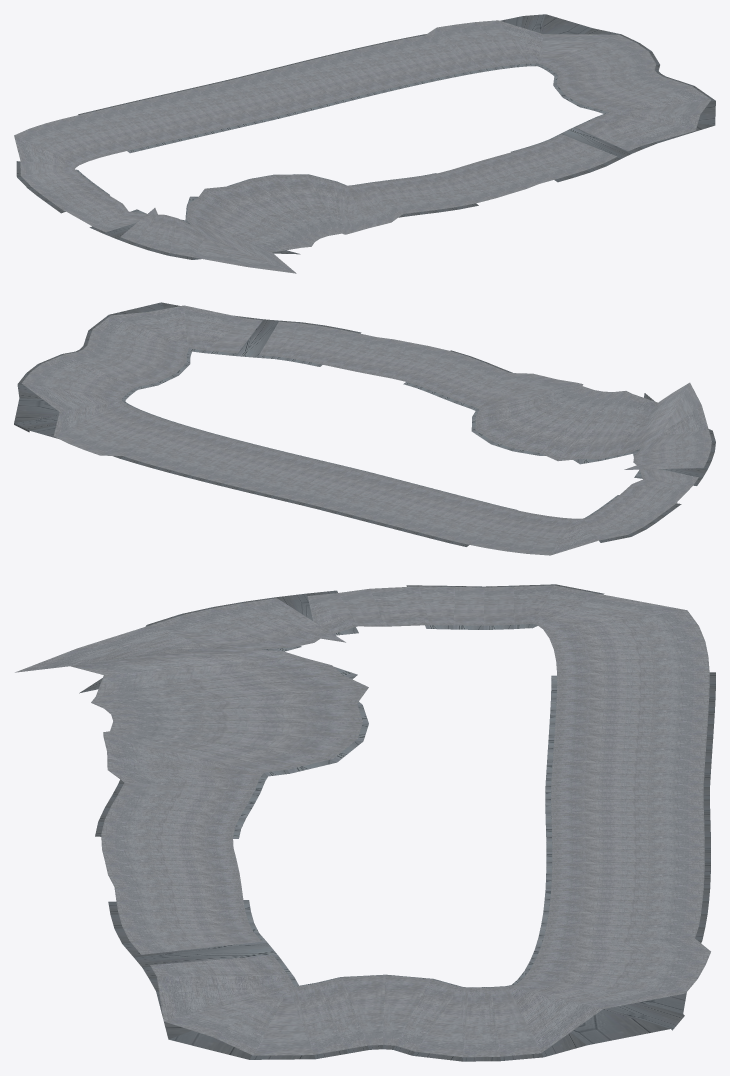
File: track2_modifiedfloor.obj
The picture shows the model from 3 angles, top to bottom: view 1: azimuth 30°, elevation 25°; view 2: azimuth 150°, elevation 25°; view 3: azimuth 270°, elevation 25°; orthographic projection. The views are drawn at different scales.
Parts seen in each view (by area): view 1: RoadSegment_Cube; view 2: RoadSegment_Cube; view 3: RoadSegment_Cube.
Part boxes in pixels (left/top/right/bottom): RoadSegment_Cube: left=14, top=14, right=715, bottom=273; RoadSegment_Cube: left=14, top=302, right=715, bottom=555; RoadSegment_Cube: left=15, top=584, right=715, bottom=1061.
Bounding box in the file's own units: 386 × 3.27 × 240.
